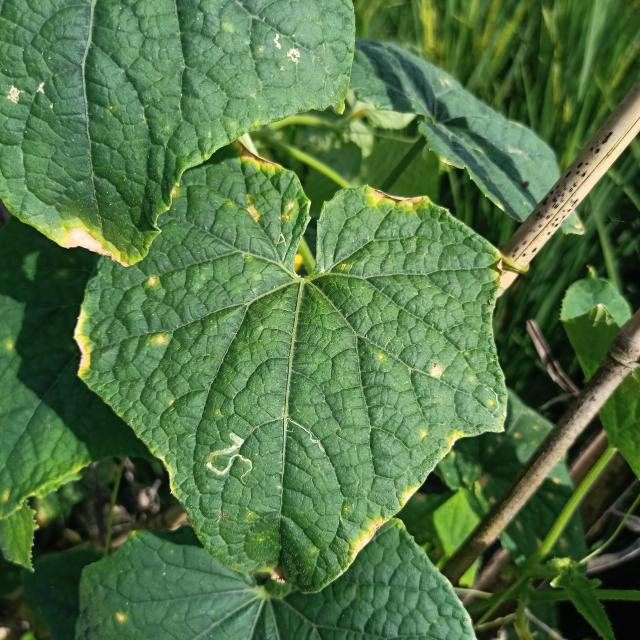disease_cucumber: (239, 195, 298, 231), (442, 427, 469, 448), (429, 362, 447, 380), (149, 331, 169, 347), (144, 274, 159, 290)
